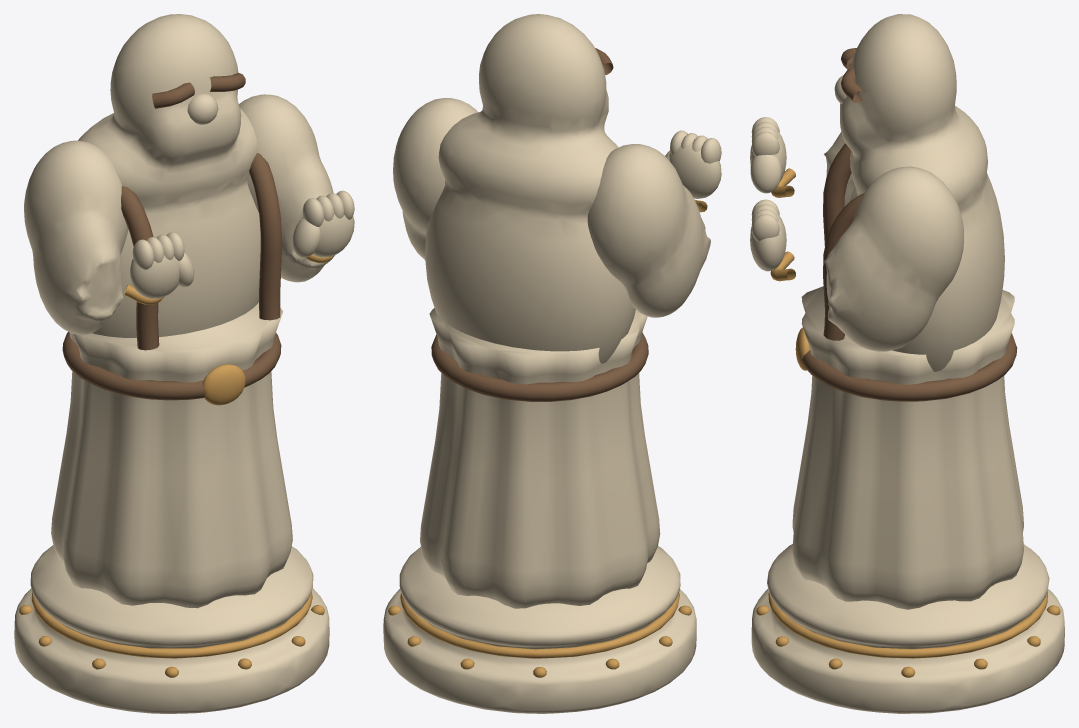
File: pusher.glb
3 views of the same model, side by side, from view 1: azimuth 30°, elevation 25°; view 2: azimuth 150°, elevation 25°; view 3: azimuth 270°, elevation 25° (orthographic).
Parts seen in each view (by area): view 1: PIECE_Pusher_Sculpture, PIECE_Pusher_Base; view 2: PIECE_Pusher_Sculpture, PIECE_Pusher_Base; view 3: PIECE_Pusher_Sculpture, PIECE_Pusher_Base.
Boxes of the visible parts, x1,y1,x2,y2 form: PIECE_Pusher_Sculpture: (24, 14, 354, 608); PIECE_Pusher_Base: (14, 545, 329, 713); PIECE_Pusher_Sculpture: (393, 14, 721, 608); PIECE_Pusher_Base: (383, 546, 696, 713); PIECE_Pusher_Sculpture: (750, 14, 1023, 609); PIECE_Pusher_Base: (751, 544, 1064, 713).
Size of the model in its own units: 0.7447 by 1.6 by 0.7225.
